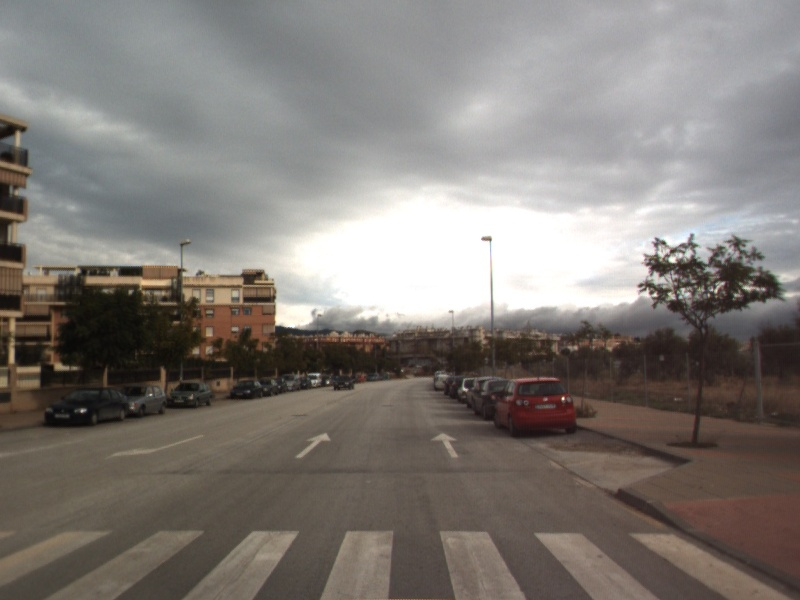STRAIGHT: (293, 430, 333, 460), (429, 430, 461, 459)
